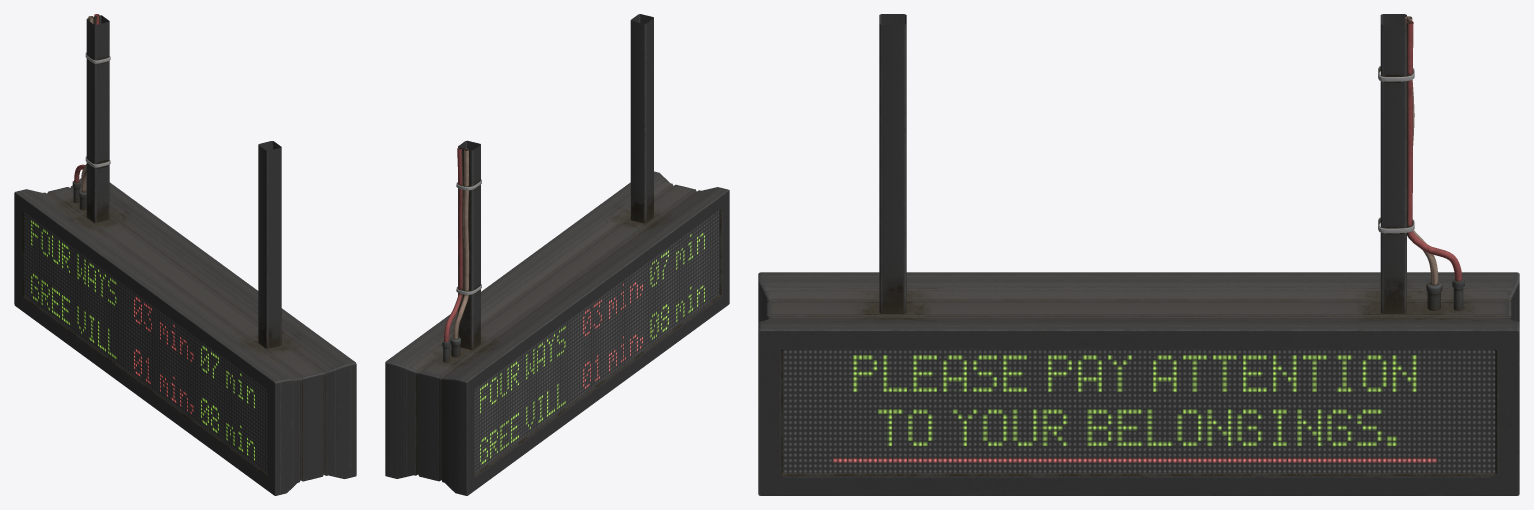
The model's file is SM_Display_01a.fbx.
3 renders of one model, left to right at view 1: azimuth 30°, elevation 25°; view 2: azimuth 150°, elevation 25°; view 3: azimuth 270°, elevation 25°, orthographic. The views are drawn at different scales.
Visible parts, largest first — view 1: SM_Display_01a; view 2: SM_Display_01a; view 3: SM_Display_01a.
Boxes of the visible parts, <box> form: SM_Display_01a: <box>14,14,356,495</box>; SM_Display_01a: <box>385,14,729,495</box>; SM_Display_01a: <box>758,14,1519,495</box>.
Bounding box in the file's own units: 38.97 × 216 × 140.
Materials: 1 (1 with a texture image).
